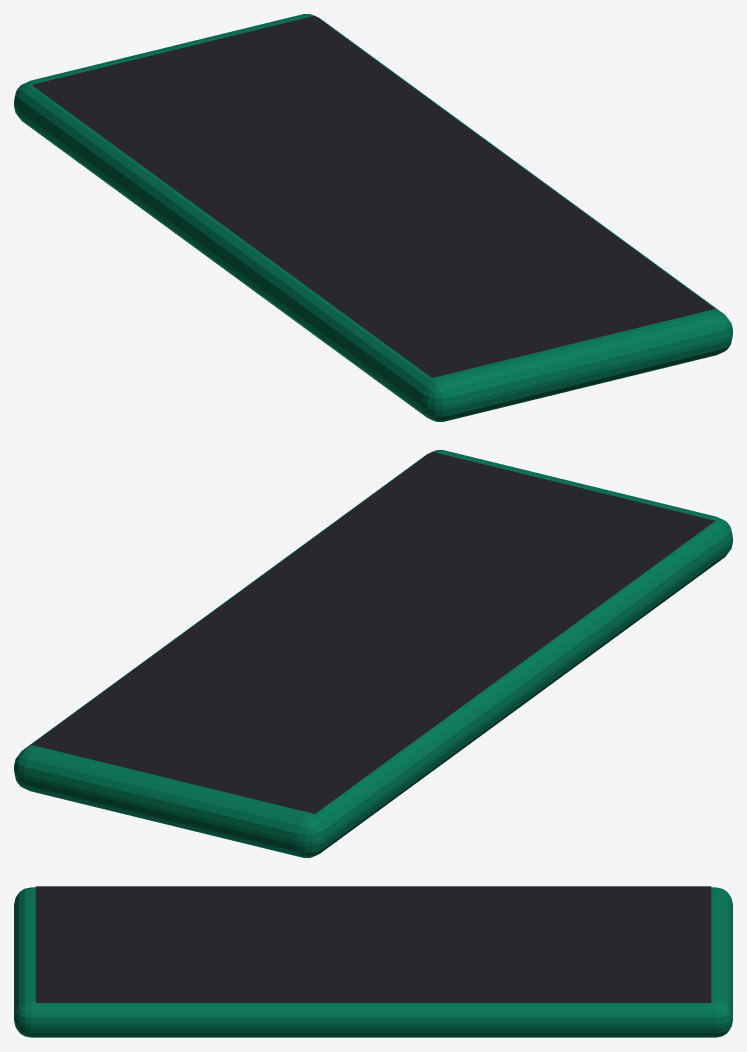
File: Phone_591.glb
3 renders of one model, top to bottom at view 1: azimuth 30°, elevation 25°; view 2: azimuth 150°, elevation 25°; view 3: azimuth 270°, elevation 25°, orthographic. The views are drawn at different scales.
Parts seen in each view (by area): view 1: Phone_Screen, Phone_Body; view 2: Phone_Screen, Phone_Body; view 3: Phone_Screen, Phone_Body.
Part boxes in pixels (x1,y1,x2,y2): Phone_Screen: [31, 15, 715, 377]; Phone_Body: [14, 14, 732, 421]; Phone_Screen: [31, 451, 715, 813]; Phone_Body: [14, 450, 732, 857]; Phone_Screen: [35, 886, 711, 1002]; Phone_Body: [14, 887, 732, 1037].
Size of the model in its own units: 0.0702 by 0.0091 by 0.1681.
